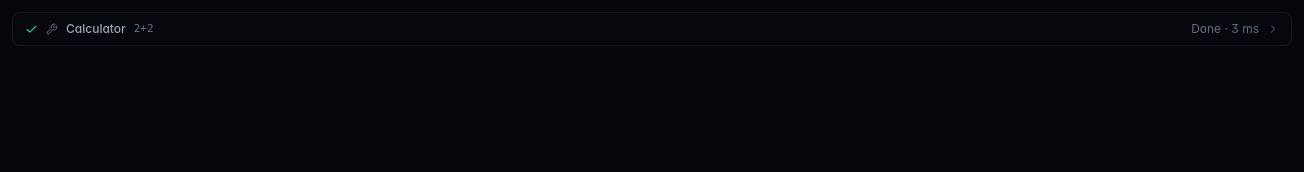
Test: ToolActivity › shows results that expand to the output
Expected: the text "Calculator" is shown, [66, 21, 126, 37]
Expected: the text "Done · 3 ms" is shown, [1191, 21, 1259, 37]
Click the button: (96, 28) [13, 13, 1291, 45]
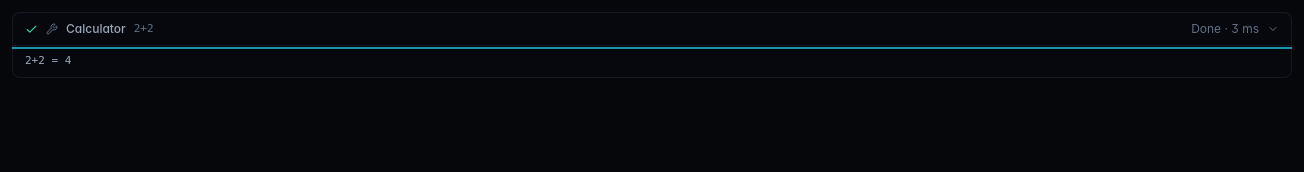
Result: the text "2+2 = 4" is shown at [13, 45, 1291, 77]
